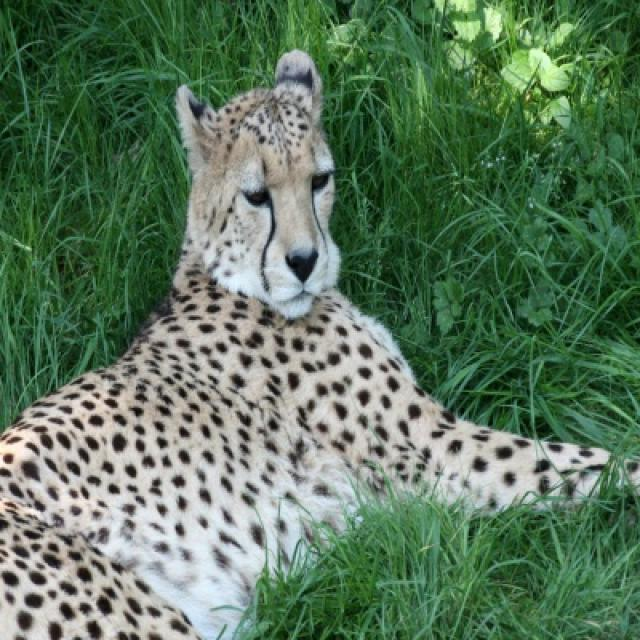Cheetah: (0, 51, 608, 638)
